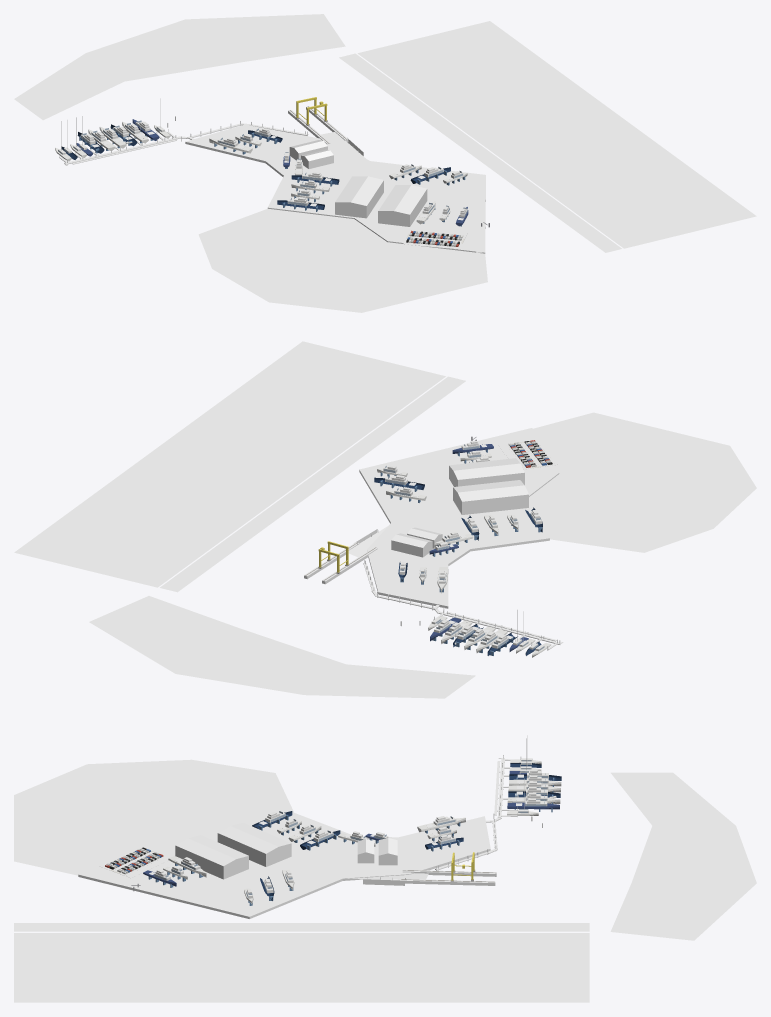
Rendered from tipner.glb.
3 views of the same model, one above another, from view 1: azimuth 30°, elevation 25°; view 2: azimuth 150°, elevation 25°; view 3: azimuth 270°, elevation 25° (orthographic). The views are drawn at different scales.
Visible parts, largest first — view 1: EL, SL, Horsea, Ground, M275, S11_rf, S12_rf, S12, S11, M275c, D19_tarmac; view 2: EL, SL, Horsea, Ground, M275, S11_rf, S12_rf, S11, M275c, S12; view 3: EL, SL, Horsea, Ground, M275, S11_rf, S12_rf, S12, S11, SvcRoad0, D19_tarmac, M275c (+1 smaller).
Boxes of the visible parts, x1,y1,x2,y2 form: EL: [357, 21, 756, 248]; SL: [198, 208, 487, 312]; Horsea: [14, 14, 345, 120]; Ground: [185, 124, 485, 253]; M275: [339, 53, 621, 252]; S11_rf: [335, 176, 383, 205]; S12_rf: [378, 185, 426, 214]; S12: [378, 189, 427, 226]; S11: [335, 180, 383, 218]; M275c: [346, 55, 614, 250]; D19_tarmac: [403, 228, 467, 249]; EL: [14, 341, 445, 587]; SL: [529, 412, 756, 552]; Horsea: [89, 596, 475, 698]; Ground: [359, 428, 559, 608]; M275: [160, 376, 465, 592]; S11_rf: [453, 480, 528, 501]; S12_rf: [449, 458, 524, 479]; S11: [453, 487, 528, 514]; M275c: [168, 378, 457, 590]; S12: [449, 466, 524, 486]; EL: [14, 933, 589, 1002]; SL: [14, 759, 294, 875]; Horsea: [610, 772, 756, 940]; Ground: [78, 813, 490, 918]; M275: [14, 923, 589, 931]; S11_rf: [218, 822, 290, 853]; S12_rf: [175, 835, 248, 866]; S12: [175, 845, 248, 879]; S11: [217, 833, 291, 866]; SvcRoad0: [80, 871, 253, 915]; D19_tarmac: [99, 846, 169, 878]; M275c: [14, 927, 589, 927].
Size of what is drawn, in the model's own units: 554 by 41.58 by 710.
